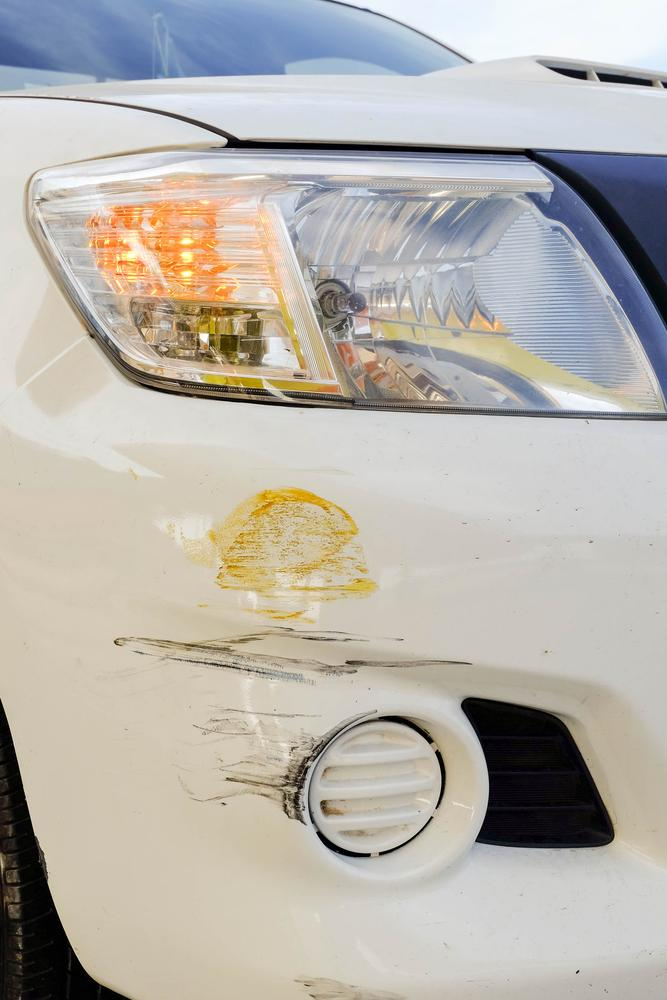scratch: (106, 474, 479, 834)
